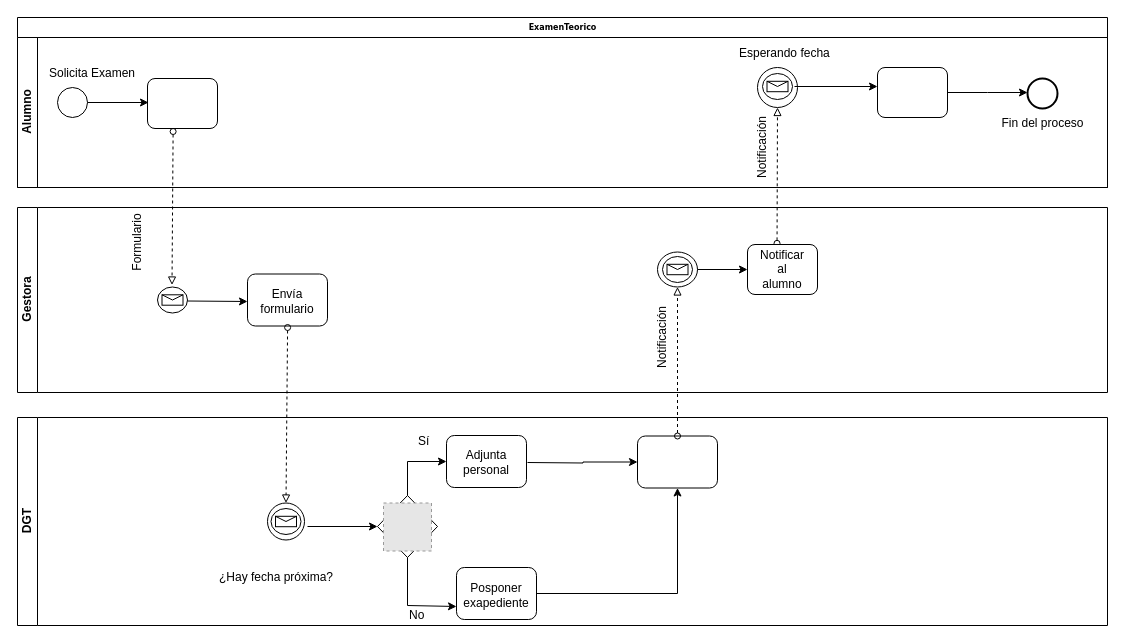
This 1125x643 diagram has some shape labels left out. Grey dashed boxes stand in for pictures. The shapes that lost their labels are listed below. From the top down, each one's centre as x and y in pixels, then its label:
point (182, 103): Rellenar el formulario
point (912, 92): Realiza examen
point (677, 461): Notifica examen
